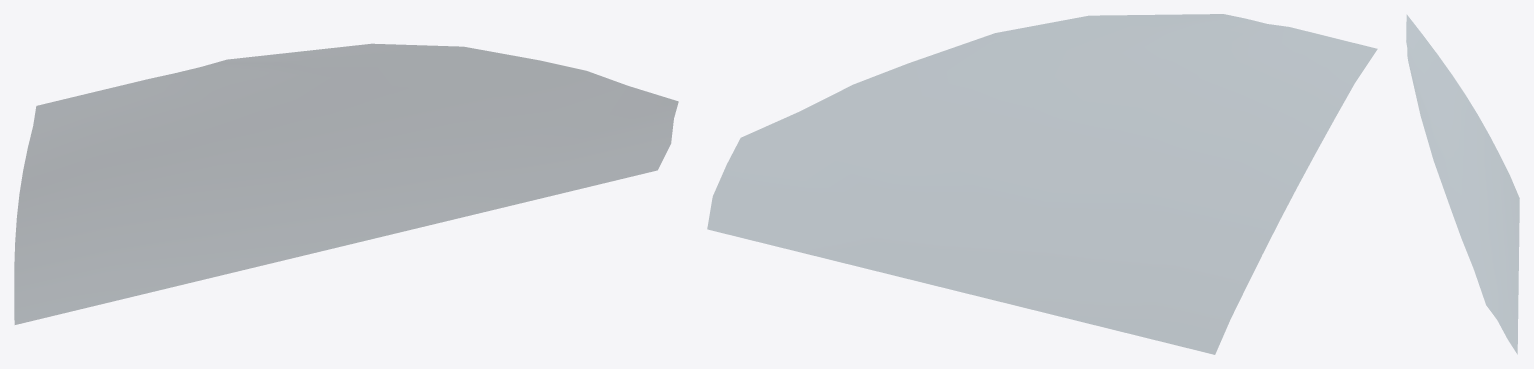
3 renders of one model, left to right at view 1: azimuth 30°, elevation 25°; view 2: azimuth 150°, elevation 25°; view 3: azimuth 270°, elevation 25°, orthographic. The views are drawn at different scales.
Visible parts, largest first — view 1: SM_FordCrown02_Door_FL_Glass_Ext1; view 2: SM_FordCrown02_Door_FL_Glass_Ext1; view 3: SM_FordCrown02_Door_FL_Glass_Ext1.
Boxes of the visible parts, x1,y1,x2,y2 form: SM_FordCrown02_Door_FL_Glass_Ext1: (14,44,678,324); SM_FordCrown02_Door_FL_Glass_Ext1: (707,14,1377,354); SM_FordCrown02_Door_FL_Glass_Ext1: (1406,15,1519,353).
Bounding box in the file's own units: 0.8483 × 0.3576 × 0.227.
